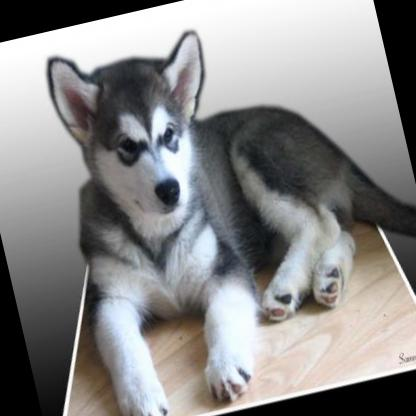malamute: (36, 0, 416, 416)
